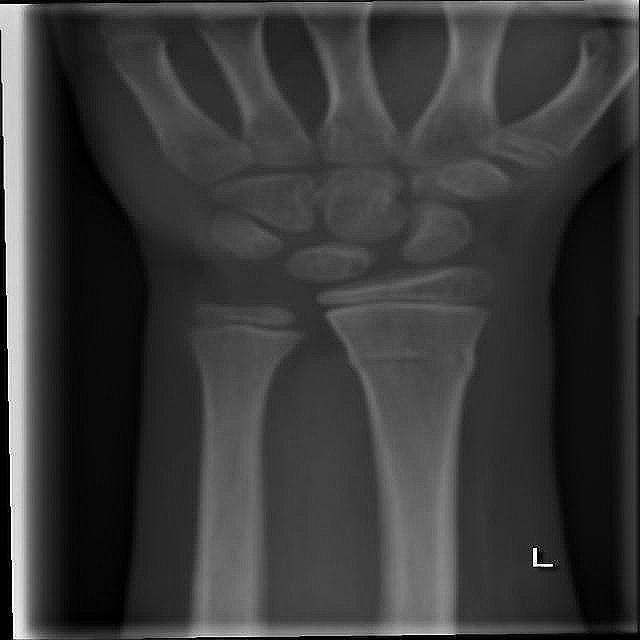bone: (342, 340, 480, 386), (185, 332, 302, 374)
